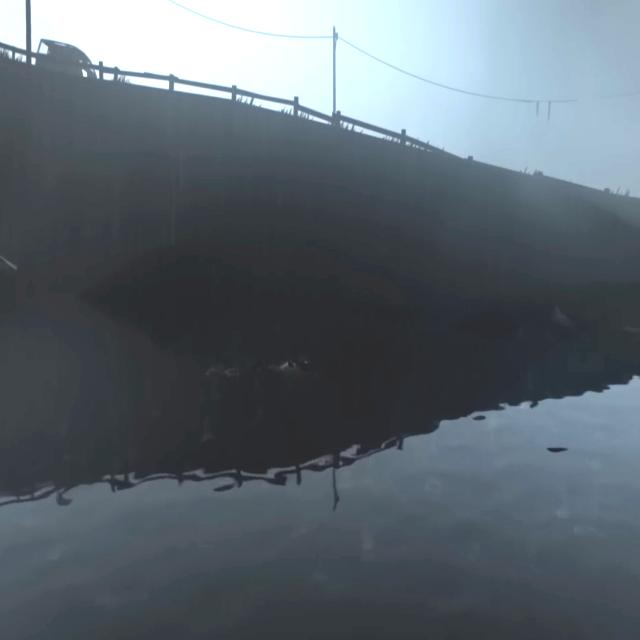boy: (254, 360, 310, 371)
